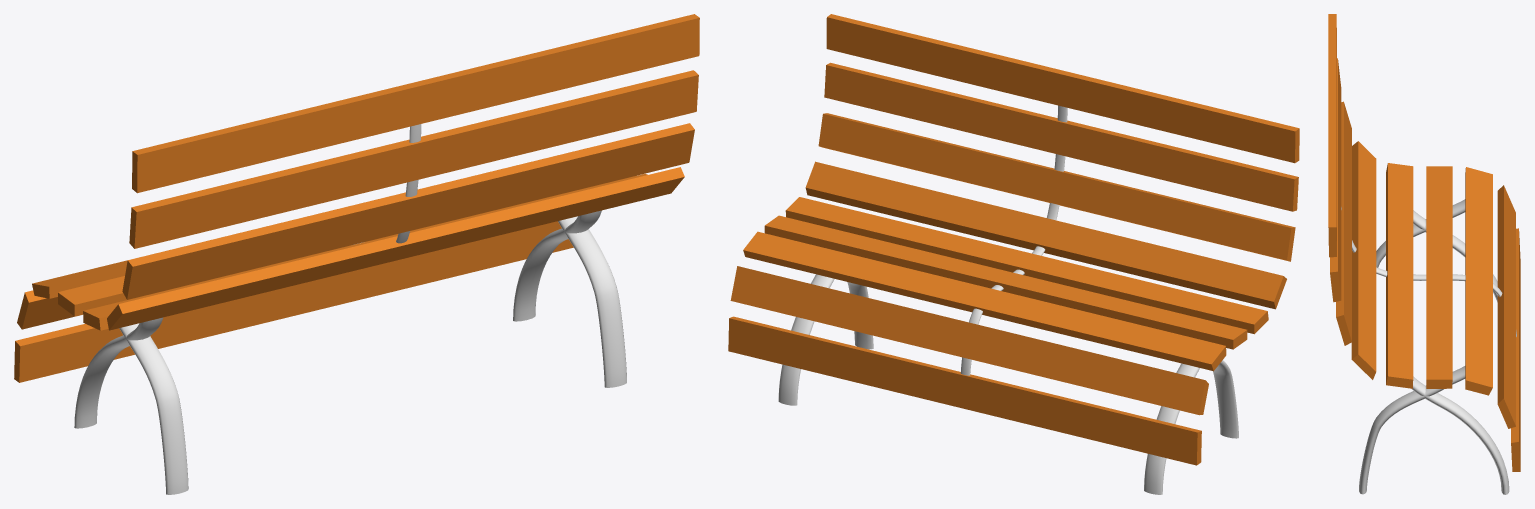
Rendered from bench.fbx.
3 views of the same model, side by side, from view 1: azimuth 30°, elevation 25°; view 2: azimuth 150°, elevation 25°; view 3: azimuth 270°, elevation 25° (orthographic). The views are drawn at different scales.
Visible parts, largest first — view 1: Bench; view 2: Bench; view 3: Bench.
Boxes of the visible parts, x1,y1,x2,y2 form: Bench: (14,14,699,494); Bench: (728,14,1299,494); Bench: (1328,14,1520,494).
Bounding box in the file's own units: 200 × 125 × 76.03.
